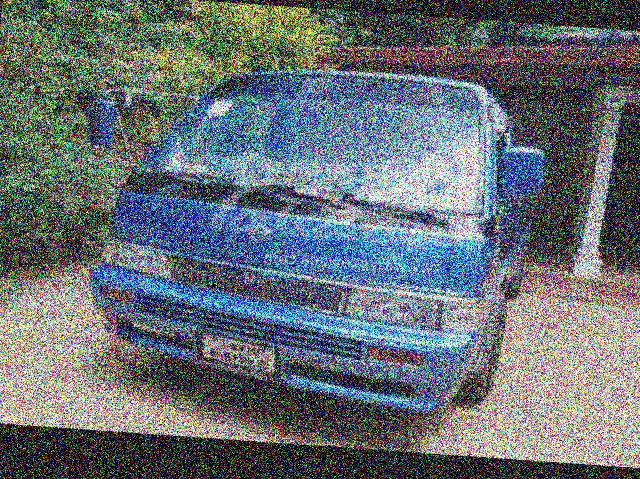van: (49, 45, 575, 423)
